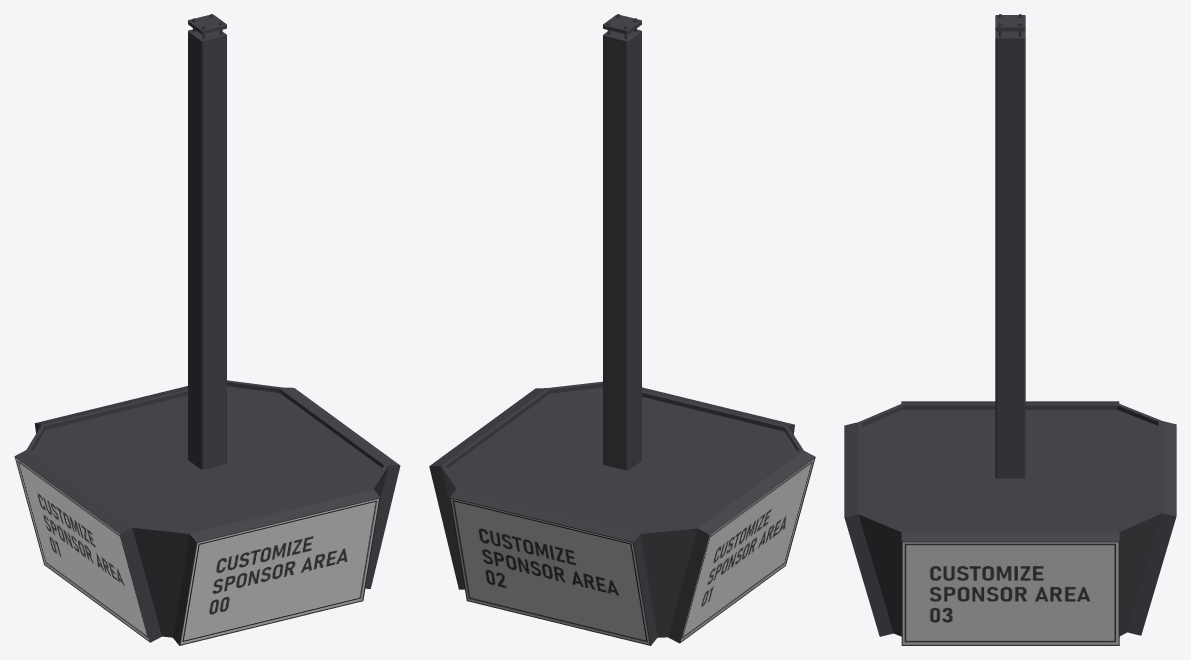
Rendered from entrance_screen.fbx.
3 renders of one model, left to right at view 1: azimuth 30°, elevation 25°; view 2: azimuth 150°, elevation 25°; view 3: azimuth 270°, elevation 25°, orthographic. The views are drawn at different scales.
Visible parts, largest first — view 1: entrance_screen, plasmaVideo.003; view 2: entrance_screen, plasmaVideo.003; view 3: entrance_screen, plasmaVideo.003.
Part boxes in pixels (x1,y1,x2,y2): entrance_screen: (14, 14, 400, 645); plasmaVideo.003: (16, 458, 378, 644); entrance_screen: (429, 14, 815, 645); plasmaVideo.003: (451, 459, 813, 644); entrance_screen: (844, 14, 1176, 645); plasmaVideo.003: (902, 542, 1118, 644).
Bounding box in the file's own units: 504 × 958 × 504.
